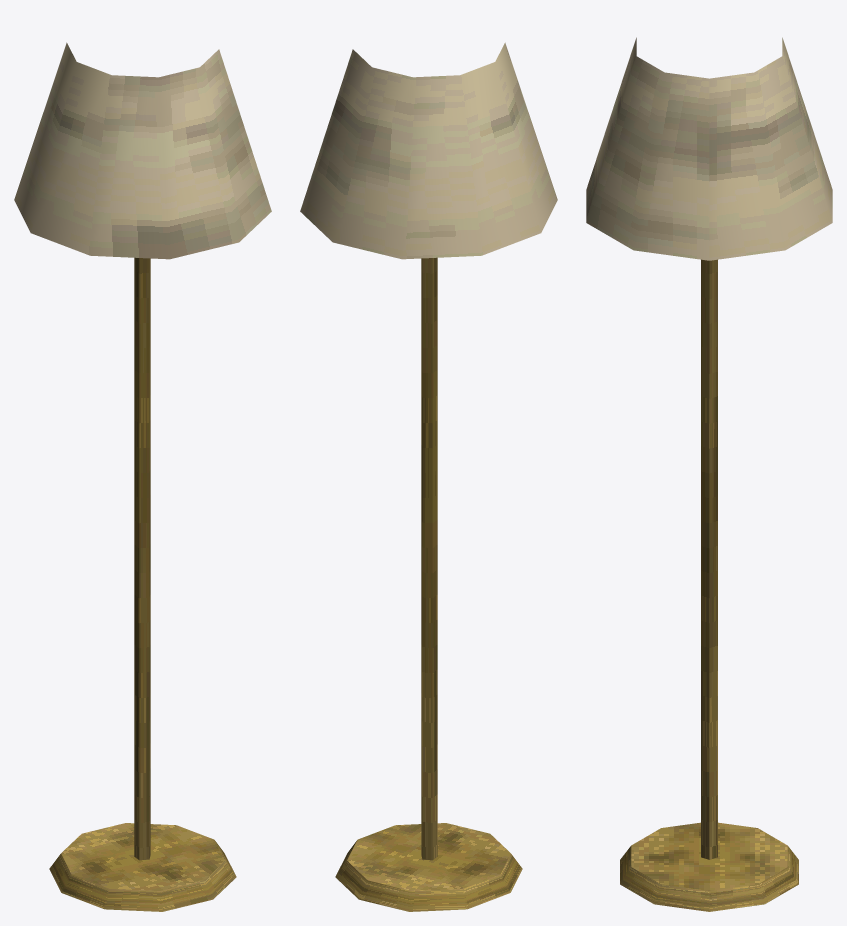
Rendered from floor_lamp.glb.
The picture shows the model from 3 angles, left to right: view 1: azimuth 30°, elevation 25°; view 2: azimuth 150°, elevation 25°; view 3: azimuth 270°, elevation 25°; orthographic projection.
Visible parts, largest first — view 1: floor_lamp; view 2: floor_lamp; view 3: floor_lamp.
Part boxes in pixels (x1,y1,x2,y2): floor_lamp: (14,42,271,911); floor_lamp: (300,42,557,911); floor_lamp: (586,37,832,911).
Bounding box in the file's own units: 0.44 × 1.55 × 0.4185.
1 material, 1 textured.
